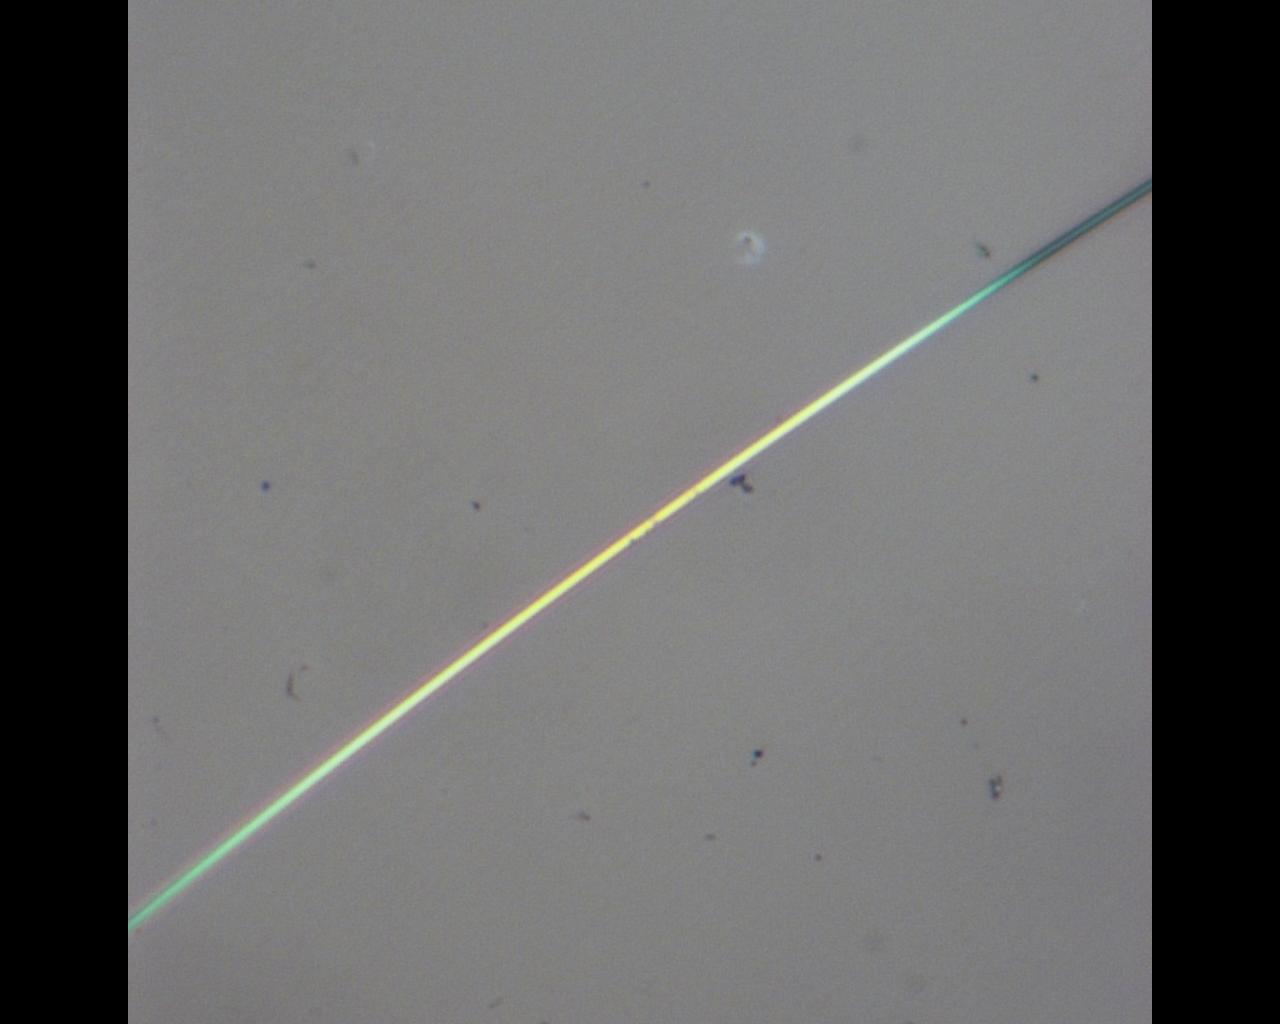fiber: (128, 176, 1152, 934)
